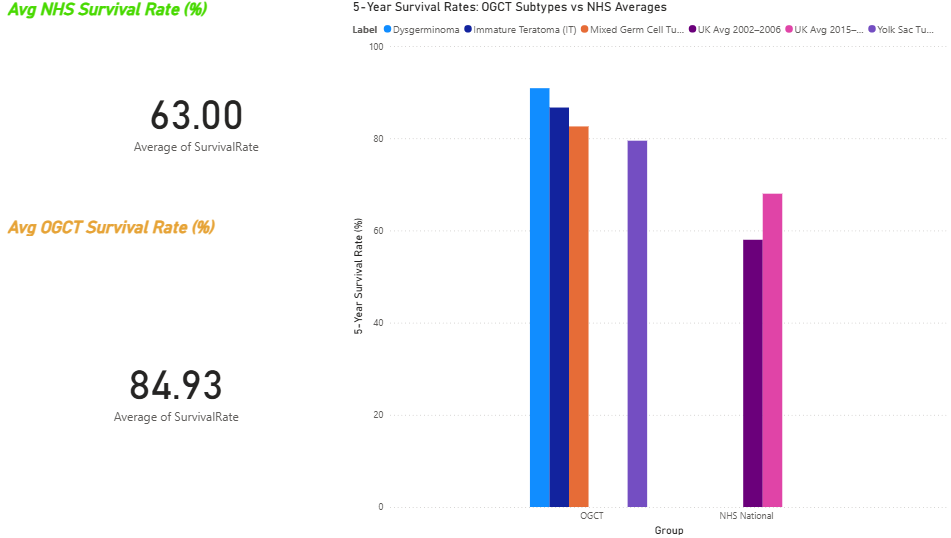

This screenshot's page, from the dashboard's own definition file:
{"tool":"powerbi","page":{"name":"Page 1","canvas":[1280,720],"ordinal":0},"visuals":[{"type":"card","title":"Avg NHS Survival Rate (%)","fields":{"Values":["Avg(ovarian_cancer_survival_comparison.SurvivalRate)"]},"box":[10,0,513.3,290],"z":0},{"type":"card","title":"Avg OGCT Survival Rate (%)","fields":{"Values":["Avg(ovarian_cancer_survival_comparison.SurvivalRate)"]},"box":[10,290,460,430],"z":1},{"type":"clusteredColumnChart","title":"5-Year Survival Rates: OGCT Subtypes vs NHS Averages","fields":{"Category":["ovarian_cancer_survival_comparison.Group"],"Y":["Sum(ovarian_cancer_survival_comparison.SurvivalRate)"],"Series":["ovarian_cancer_survival_comparison.Label"]},"box":[470,0,803.3,720],"z":2}]}

Visuals, with their boxes in screenshot pixels (x1, y1, x2, y2), scaled from the page's 1280x720 canvas onto the 951x538 screenshot:
"Avg NHS Survival Rate (%)" card: left=7, top=0, right=389, bottom=217
"Avg OGCT Survival Rate (%)" card: left=7, top=217, right=349, bottom=537
"5-Year Survival Rates: OGCT Subtypes vs NHS Averages" clusteredColumnChart: left=349, top=0, right=946, bottom=537
